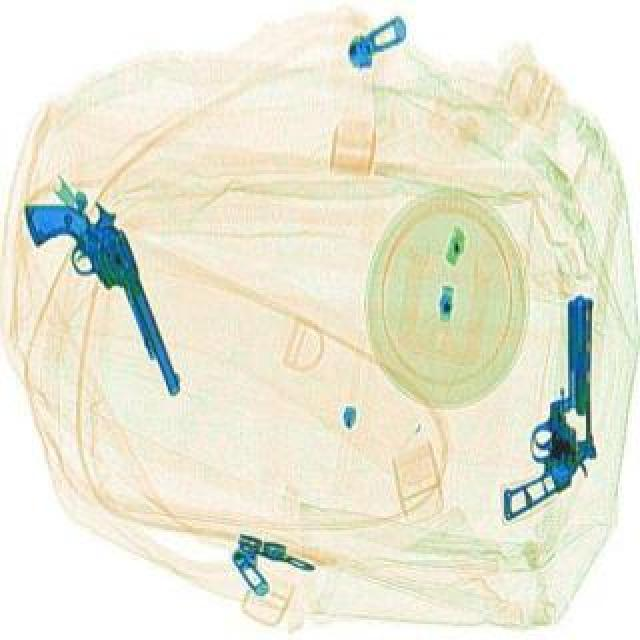gun: (18, 180, 182, 418), (492, 292, 600, 516)
